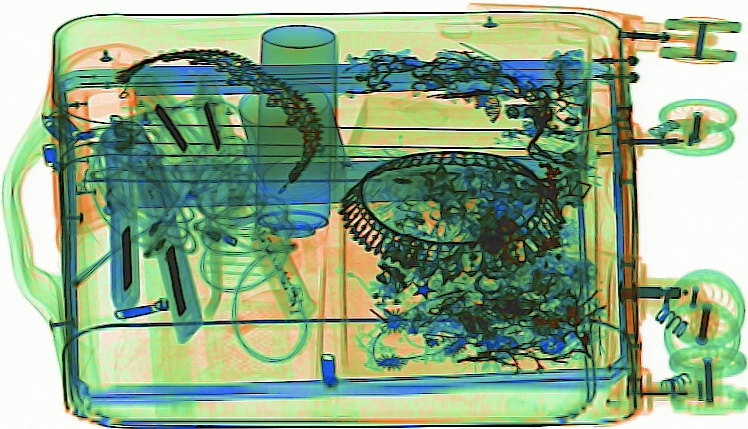pressure: (253, 22, 343, 253)
